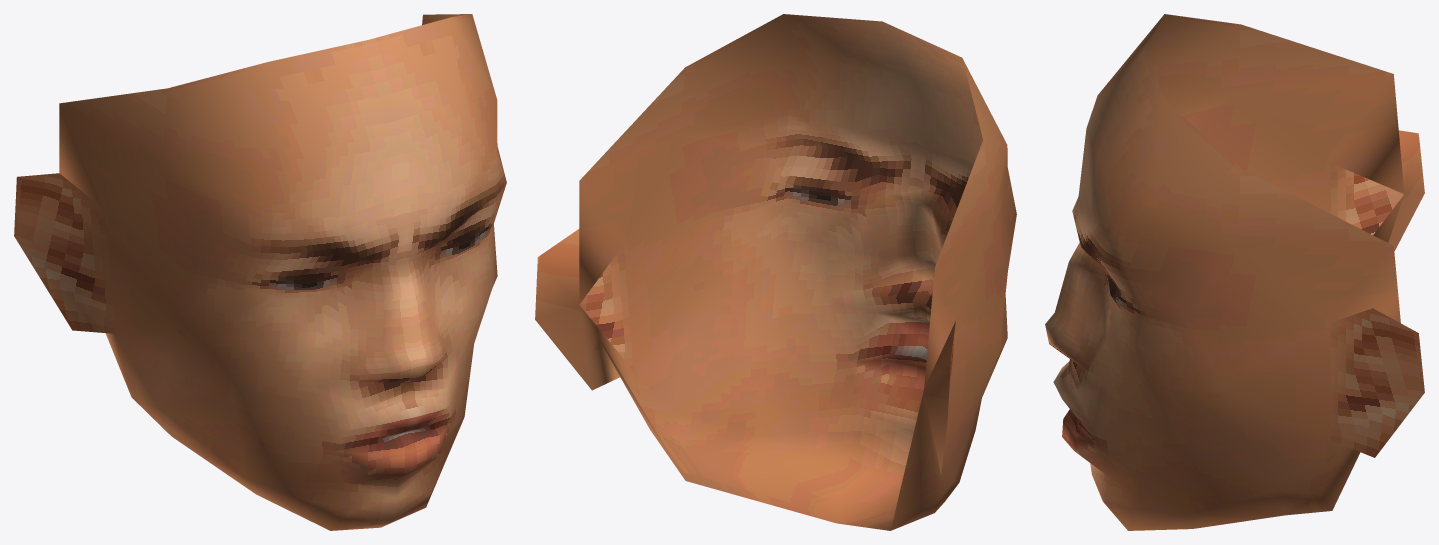
3 views of the same model, side by side, from view 1: azimuth 30°, elevation 25°; view 2: azimuth 150°, elevation 25°; view 3: azimuth 270°, elevation 25° (orthographic). The views are drawn at different scales.
Visible parts, largest first — view 1: mesh00; view 2: mesh00; view 3: mesh00.
Boxes of the visible parts, x1,y1,x2,y2 form: mesh00: (14,14,506,530); mesh00: (535,14,1016,530); mesh00: (1045,14,1424,530).
Size of the model in its own units: 17.18 by 18.64 by 13.81.
Materials: 1 (1 with a texture image).
